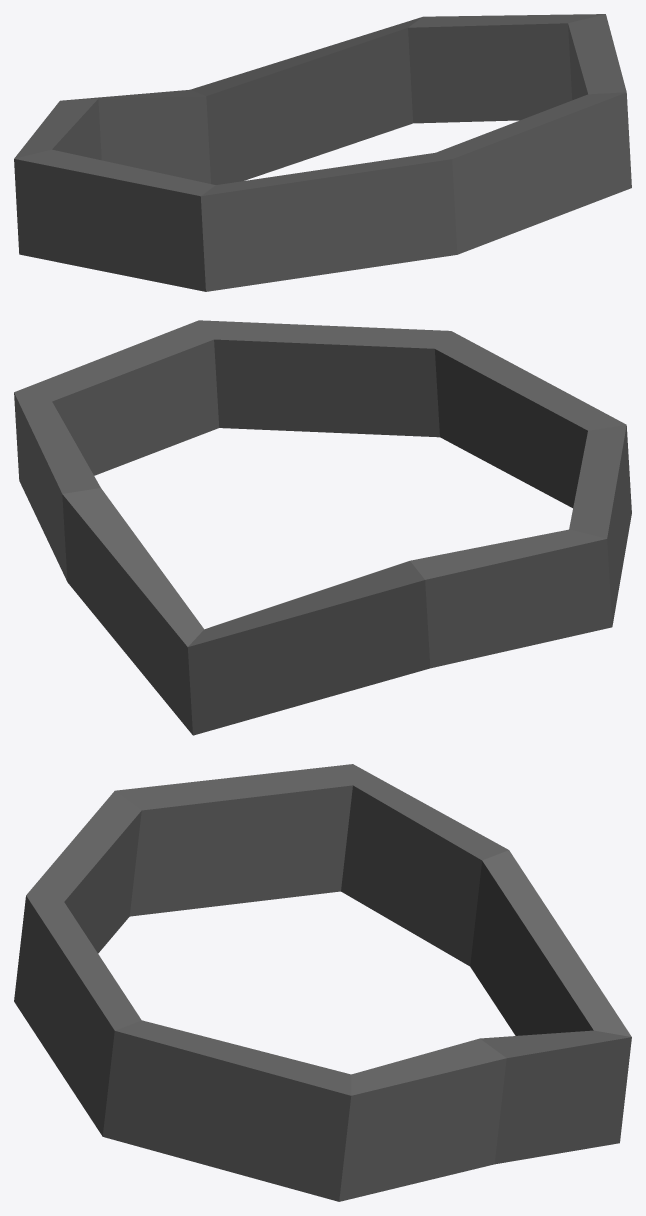
The model's file is Enemy_Necromancer_Belt.fbx.
3 views of the same model, one above another, from view 1: azimuth 30°, elevation 25°; view 2: azimuth 150°, elevation 25°; view 3: azimuth 270°, elevation 25° (orthographic). The views are drawn at different scales.
Parts seen in each view (by area): view 1: Enemy_Necromancer_Belt; view 2: Enemy_Necromancer_Belt; view 3: Enemy_Necromancer_Belt.
Boxes of the visible parts, left/top/right/bottom form: Enemy_Necromancer_Belt: left=14, top=14, right=631, bottom=291; Enemy_Necromancer_Belt: left=14, top=320, right=631, bottom=735; Enemy_Necromancer_Belt: left=14, top=764, right=631, bottom=1201.
Bounding box in the file's own units: 92.58 × 32.12 × 72.59.
